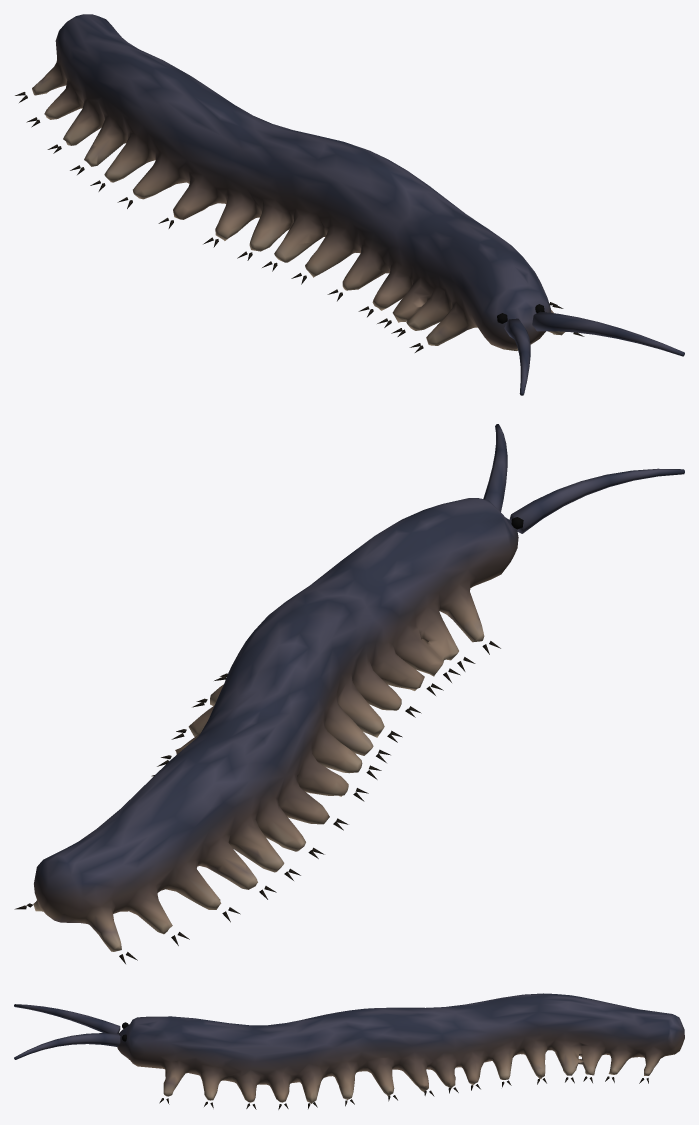
The model's file is Helenodora.fbx.
3 renders of one model, top to bottom at view 1: azimuth 30°, elevation 25°; view 2: azimuth 150°, elevation 25°; view 3: azimuth 270°, elevation 25°, orthographic. The views are drawn at different scales.
Parts seen in each view (by area): view 1: Helenodora; view 2: Helenodora; view 3: Helenodora.
Boxes of the visible parts, x1,y1,x2,y2 form: Helenodora: (15,14,684,395); Helenodora: (14,424,684,963); Helenodora: (14,993,684,1109).
Size of the model in its own units: 0.4898 by 0.1948 by 1.79.
